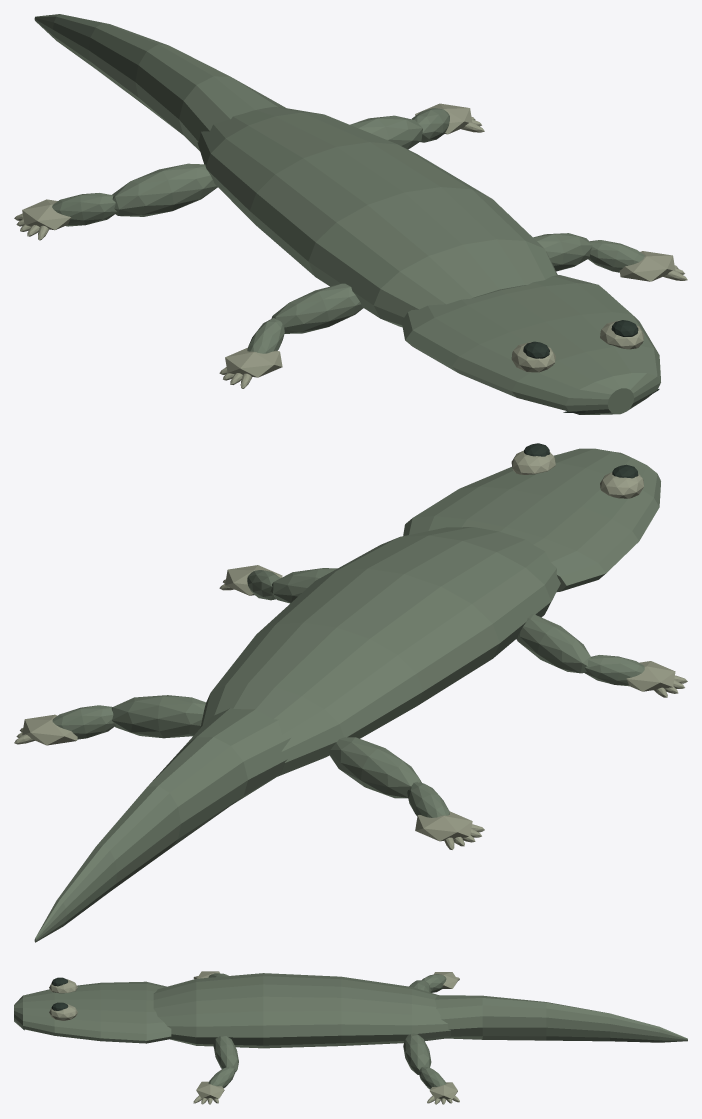
3 views of the same model, one above another, from view 1: azimuth 30°, elevation 25°; view 2: azimuth 150°, elevation 25°; view 3: azimuth 270°, elevation 25° (orthographic). The views are drawn at different scales.
Visible parts, largest first — view 1: surface_mud_olive, surface_underside_and_orbit, surface_eye_and_seam; view 2: surface_mud_olive, surface_underside_and_orbit; view 3: surface_mud_olive, surface_underside_and_orbit, surface_eye_and_seam.
Boxes of the visible parts, <box> form: surface_mud_olive: <box>34,14,660,414</box>; surface_underside_and_orbit: <box>14,103,687,388</box>; surface_eye_and_seam: <box>523,320,659,412</box>; surface_mud_olive: <box>34,448,660,942</box>; surface_underside_and_orbit: <box>14,450,687,849</box>; surface_mud_olive: <box>14,973,687,1089</box>; surface_underside_and_orbit: <box>49,971,459,1104</box>; surface_eye_and_seam: <box>22,977,68,1030</box>.
Size of the model in its own units: 0.8561 by 0.182 by 1.91.
